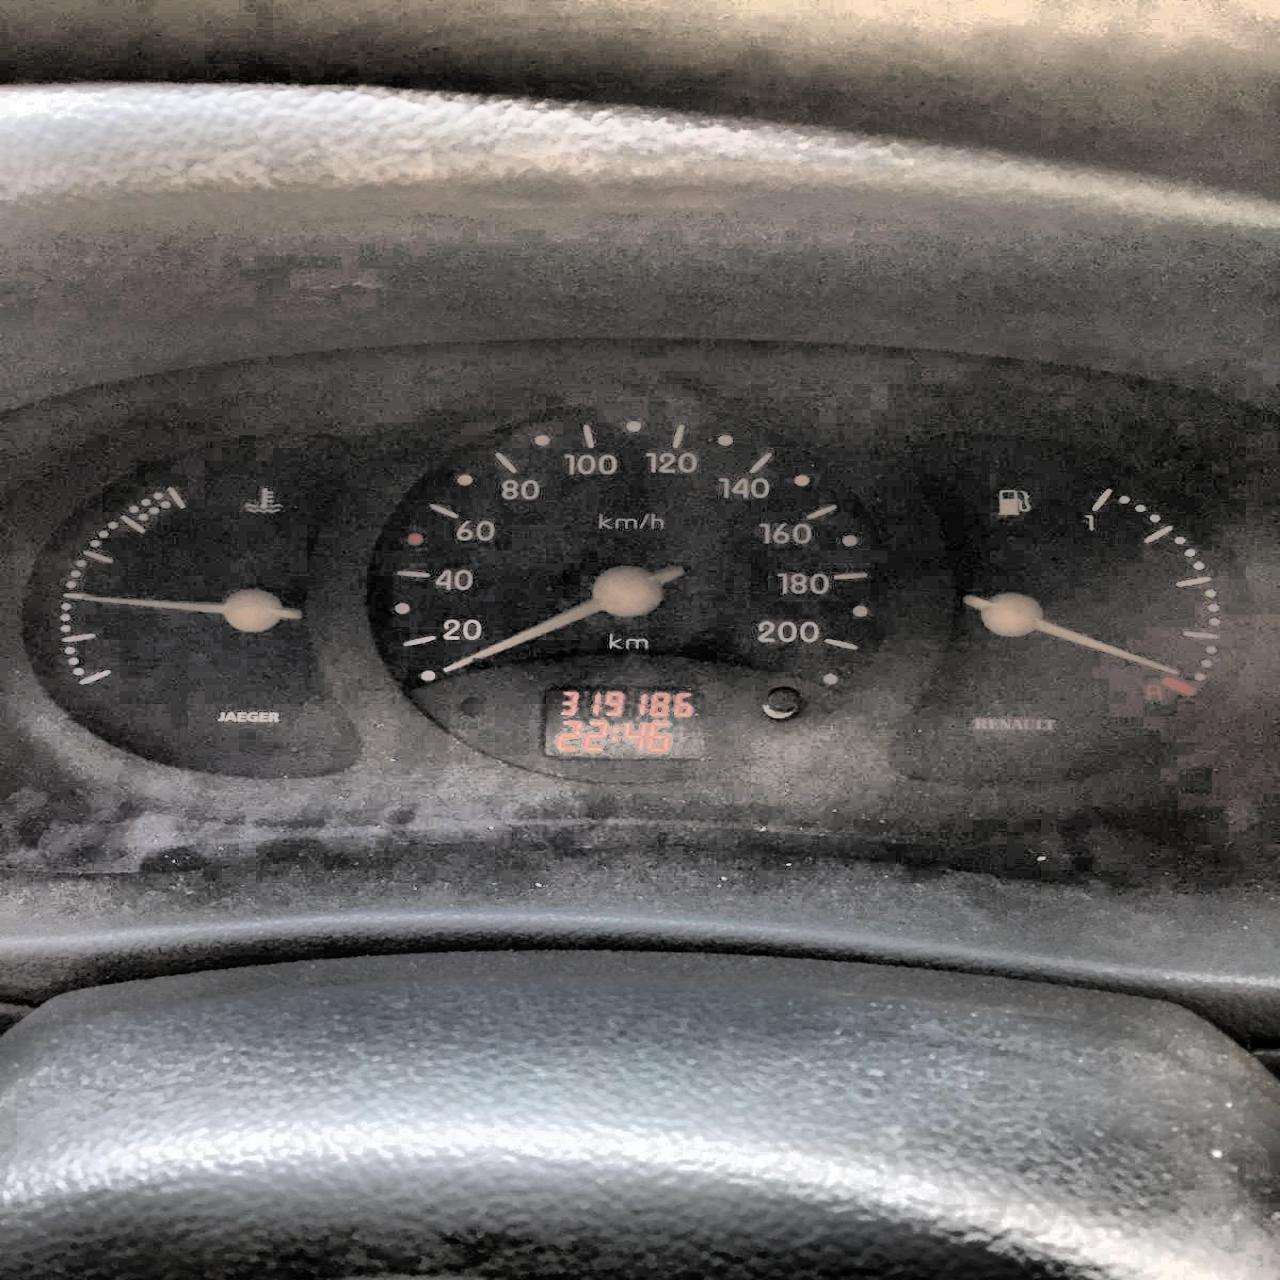1: (592, 690, 601, 714), (638, 693, 646, 716)
2: (556, 721, 580, 750), (583, 721, 606, 750)
3: (559, 690, 578, 715)
4: (624, 722, 645, 749)
6: (646, 722, 668, 751), (673, 693, 692, 716)
8: (649, 692, 668, 715)
9: (604, 692, 622, 715)
X: (611, 726, 619, 741)
odometer: (539, 685, 707, 760)
